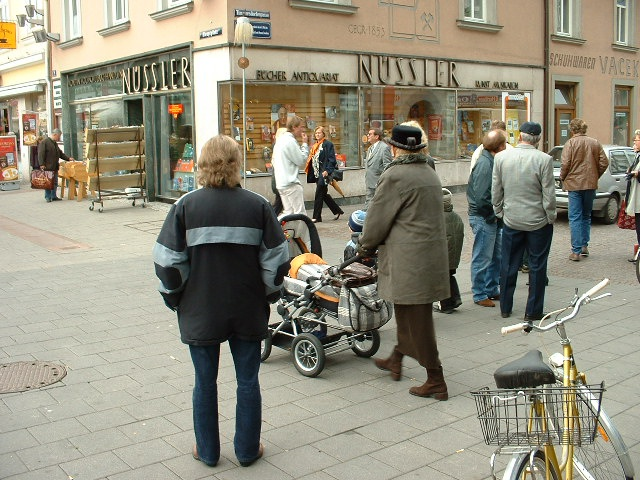person: (152, 134, 290, 469), (366, 123, 452, 401), (494, 118, 556, 322), (555, 115, 607, 262), (307, 122, 344, 223)
